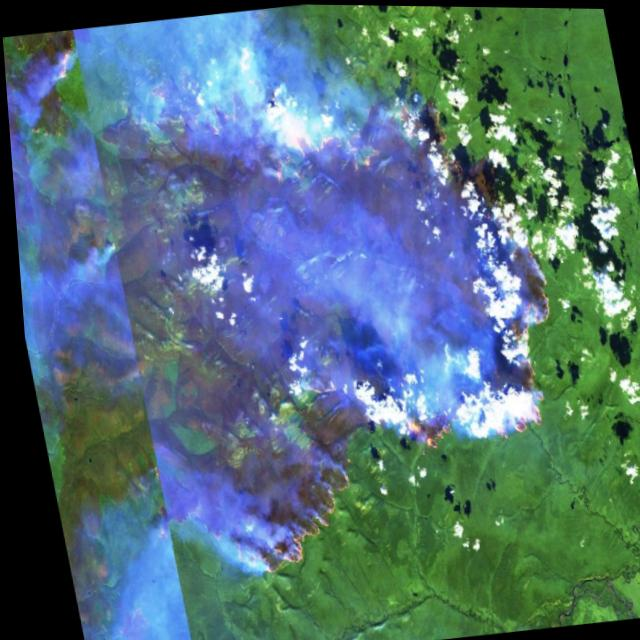fire: (0, 0, 599, 616)
